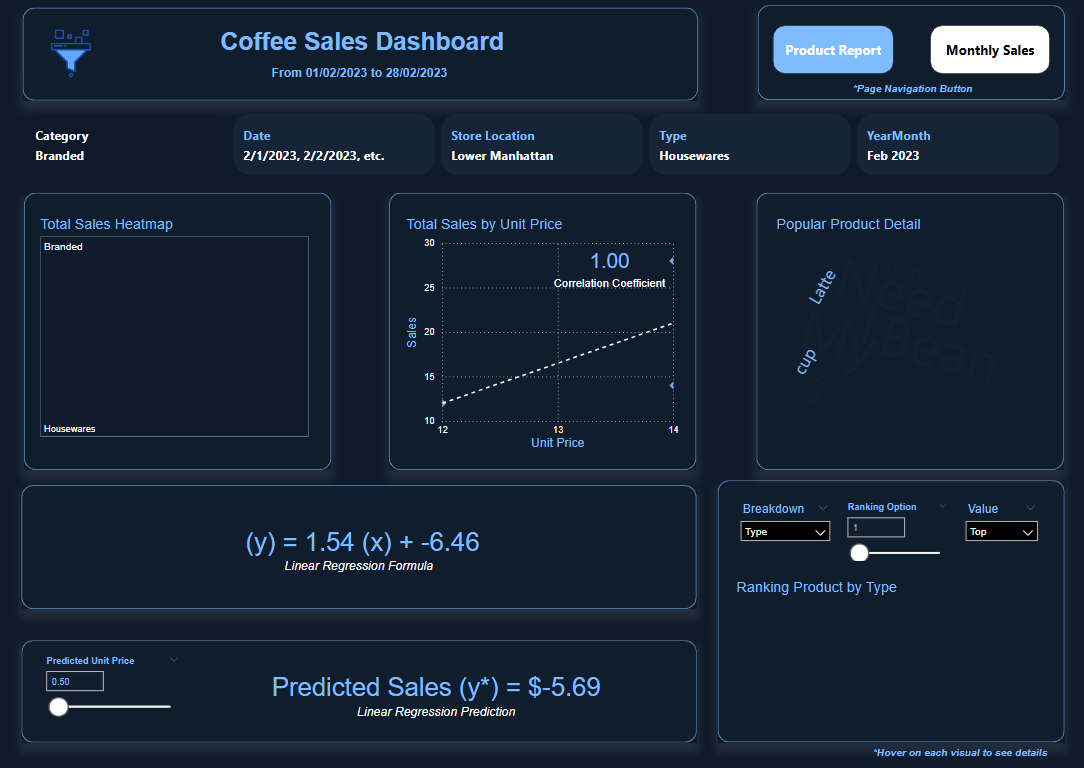

The page's visual inventory and layout, read from the dashboard file:
{"tool":"powerbi","page":{"name":"Product Report","canvas":[1440,1024],"ordinal":4},"visuals":[{"type":"shape","box":[43.8,24.7,876.7,120.5],"z":0},{"type":"image","title":"Slicer_Showbox","box":[60.3,46.6,93.2,74],"z":1000},{"type":"shape","box":[945.4,644.3,450.9,333.8],"z":2000},{"type":"shape","box":[42.2,845.6,876.5,133.1],"z":3000},{"type":"shape","box":[42.2,644.4,876.5,160.7],"z":4000},{"type":"shape","box":[519.4,264.6,399.3,360.3],"z":5000},{"type":"shape","box":[996.6,264.6,399.3,360.3],"z":6000},{"type":"shape","box":[45.4,264.6,399.3,360.3],"z":7000},{"type":"shape","box":[998.2,21.1,399.3,123.4],"z":8000},{"type":"scatterChart","title":"Total Sales by Unit Price","fields":{"X":["Fact_Sales.unit_price"],"Y":["Fact_Sales.Sales"]},"box":[537.2,295.4,368.4,308.4],"z":9000},{"type":"slicer","fields":{"Values":["Breakdown.Breakdown"]},"box":[965.7,660.6,136.3,82.8],"z":10000},{"type":"slicer","fields":{"Values":["TopBottom.Value"]},"box":[1257.9,660.6,113.6,82.8],"z":11000},{"type":"slicer","fields":{"Values":["Ranking Option.Ranking Option"]},"box":[1102.1,660.6,154.2,82.8],"z":12000},{"type":"columnChart","fields":{"Category":["Dim_Type.product_type"],"Y":["Key Measures.Ranking Product"]},"box":[966.3,766.5,411.8,189.6],"z":13000},{"type":"WordCloud1447959067750","title":"Popular Product Detail","fields":{"Category":["Dim_Product.product_detail"],"Values":["Key Measures.Total Quantity Sold"]},"box":[1017.7,295.4,350.6,308.4],"z":14000},{"type":"card","fields":{"Values":["Key Measures.Linear Regression Formula"]},"box":[34.1,660.6,892.7,129.8],"z":15000},{"type":"card","fields":{"Values":["Key Measures.Linear Regression Prediction"]},"box":[271.1,860.3,619.7,108],"z":16000},{"type":"card","fields":{"Values":["Key Measures.unit_price and Sales correlation for Sales"]},"box":[706.1,308.4,199.6,105.5],"z":17000},{"type":"shape","box":[1017.7,47.1,157.4,63.3],"z":18000},{"type":"card","fields":{"Values":["Key Measures.Date Range"]},"box":[292.2,90.9,378.2,39],"z":19000},{"type":"textbox","box":[272.7,45.4,423.6,64.9],"z":20000},{"type":"shape","box":[1222.2,47.1,155.8,63.3],"z":21000},{"type":"slicer","fields":{"Values":["Predicted Unit Price.Predicted Unit Price"]},"box":[61.2,860.3,195.7,108],"z":22000},{"type":"textbox","box":[1143.2,979.4,253.3,35.5],"z":23000},{"type":"textbox","box":[1116.7,116.9,183.4,26],"z":24000},{"type":"slicer","fields":{"Values":["Dim_Date.YearMonth"]},"box":[705.3,51,177.4,69.3],"z":24500},{"type":"treemap","title":"Total Sales Heatmap","fields":{"Values":["Key Measures.Total Sales"],"Group":["Dim_Category.product_category"],"Details":["Dim_Type.product_type"]},"box":[61.7,295.4,358.7,290.5],"z":25000},{"type":"card","fields":{"Values":["Key Measures._xxx value"]},"box":[113.6,110.4,45.4,40.6],"z":28000},{"type":"advancedSlicerVisual","fields":{"Values":["Slicer Table.Slicer"]},"box":[42.2,162.3,1356.9,79.5],"z":29000},{"type":"actionButton","box":[130.5,85.6,46.9,42.8],"z":30000},{"type":"card","fields":{"Values":["Key Measures._xxx value"]},"box":[130.5,91.7,46.9,40.8],"z":31000}]}

Visuals, with their boxes in screenshot pixels (x1, y1, x2, y2), scaled from the page's 1440x1024 canvas onto the 1084x768 screenshot:
shape: x1=33 y1=19 x2=693 y2=109
"Slicer_Showbox" image: x1=45 y1=35 x2=116 y2=90
shape: x1=712 y1=483 x2=1051 y2=734
shape: x1=32 y1=634 x2=692 y2=734
shape: x1=32 y1=483 x2=692 y2=604
shape: x1=391 y1=198 x2=692 y2=469
shape: x1=750 y1=198 x2=1051 y2=469
shape: x1=34 y1=198 x2=335 y2=469
shape: x1=751 y1=16 x2=1052 y2=108
"Total Sales by Unit Price" scatterChart: x1=404 y1=222 x2=682 y2=453
slicer - Breakdown.Breakdown: x1=727 y1=495 x2=830 y2=558
slicer - TopBottom.Value: x1=947 y1=495 x2=1032 y2=558
slicer - Ranking Option.Ranking Option: x1=830 y1=495 x2=946 y2=558
columnChart - Dim_Type.product_type x Key Measures.Ranking Product: x1=727 y1=575 x2=1037 y2=717
"Popular Product Detail" WordCloud1447959067750: x1=766 y1=222 x2=1030 y2=453
card - Key Measures.Linear Regression Formula: x1=26 y1=495 x2=698 y2=593
card - Key Measures.Linear Regression Prediction: x1=204 y1=645 x2=671 y2=726
card - Key Measures.unit_price and Sales correlation for Sales: x1=532 y1=231 x2=682 y2=310
shape: x1=766 y1=35 x2=885 y2=83
card - Key Measures.Date Range: x1=220 y1=68 x2=505 y2=97
textbox: x1=205 y1=34 x2=524 y2=83
shape: x1=920 y1=35 x2=1037 y2=83
slicer - Predicted Unit Price.Predicted Unit Price: x1=46 y1=645 x2=193 y2=726
textbox: x1=861 y1=735 x2=1051 y2=761
textbox: x1=841 y1=88 x2=979 y2=107
slicer - Dim_Date.YearMonth: x1=531 y1=38 x2=664 y2=90
"Total Sales Heatmap" treemap: x1=46 y1=222 x2=316 y2=439
card - Key Measures._xxx value: x1=86 y1=83 x2=120 y2=113
advancedSlicerVisual - Slicer Table.Slicer: x1=32 y1=122 x2=1053 y2=181
actionButton: x1=98 y1=64 x2=134 y2=96
card - Key Measures._xxx value: x1=98 y1=69 x2=134 y2=99
